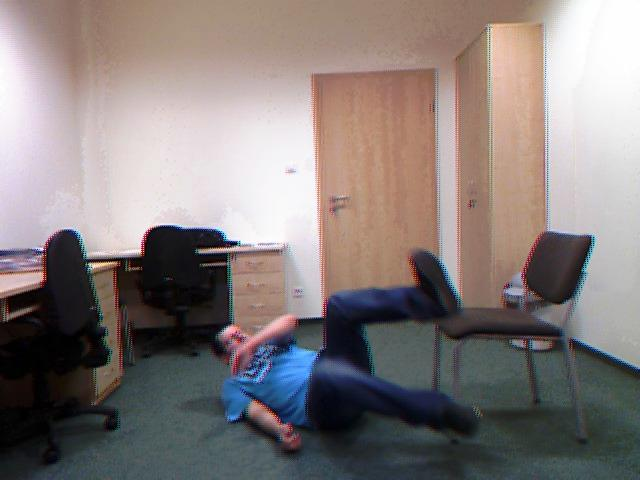fall: (207, 246, 496, 467)
